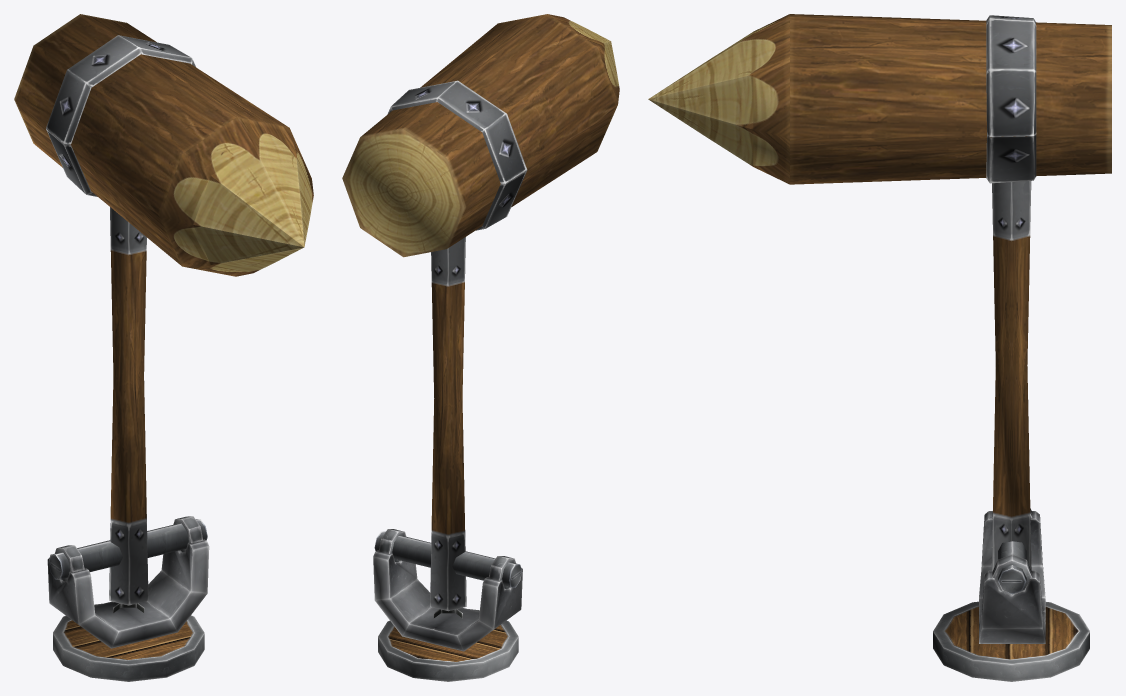
The model's file is Hammer_L2.FBX.
3 renders of one model, left to right at view 1: azimuth 30°, elevation 25°; view 2: azimuth 150°, elevation 25°; view 3: azimuth 270°, elevation 25°, orthographic. The views are drawn at different scales.
Parts seen in each view (by area): view 1: Hammer_Hammer_L2, Hammer_Hub_L2, Hammer_Base_L2; view 2: Hammer_Hammer_L2, Hammer_Hub_L2, Hammer_Base_L2; view 3: Hammer_Hammer_L2, Hammer_Base_L2, Hammer_Hub_L2.
Boxes of the visible parts, x1,y1,x2,y2 form: Hammer_Hammer_L2: (14,14,313,605); Hammer_Hub_L2: (47,516,209,648); Hammer_Base_L2: (53,603,204,681); Hammer_Hammer_L2: (342,14,619,611); Hammer_Hub_L2: (373,529,522,651); Hammer_Base_L2: (378,609,518,681); Hammer_Hammer_L2: (648,14,1111,594); Hammer_Base_L2: (933,601,1089,681); Hammer_Hub_L2: (979,508,1045,643).
Bounding box in the file's own units: 2.17 × 5.54 × 8.33.
